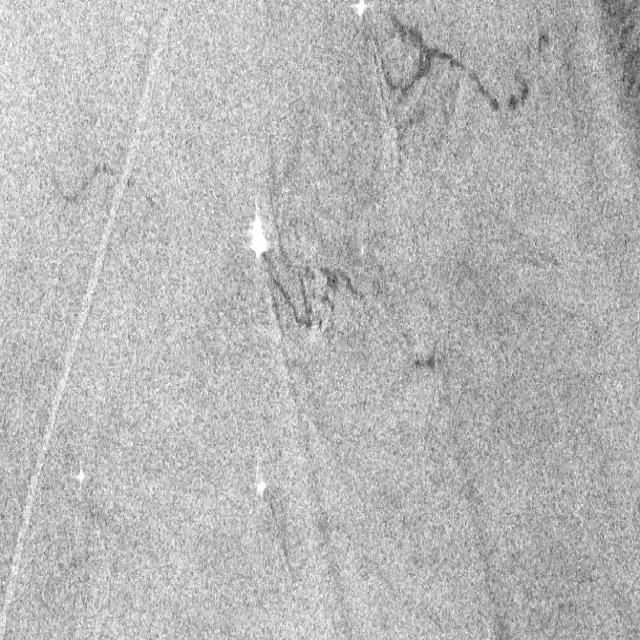oil-spill: (376, 8, 534, 131), (265, 269, 360, 340), (409, 325, 453, 384)
ship: (238, 200, 272, 264), (346, 0, 370, 25)
